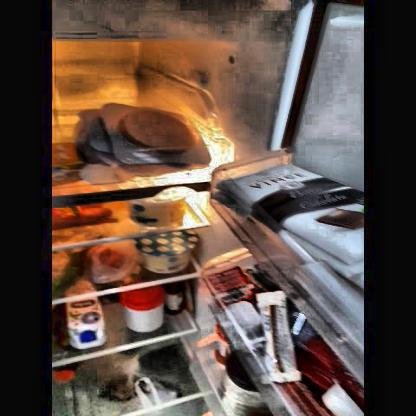butter: (54, 141, 86, 185)
carrot: (52, 208, 114, 226)
chocolate: (230, 165, 365, 267)
green_chillies: (51, 252, 89, 295)
milk: (64, 302, 107, 346)
salami: (109, 105, 198, 152)
tomato: (97, 246, 126, 270)
yoghurt: (138, 235, 199, 272), (129, 197, 187, 224)
